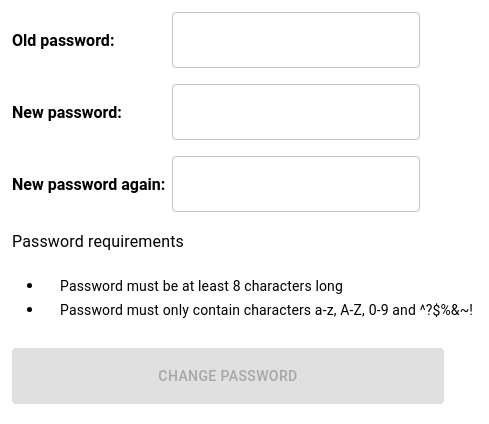
Scenario: ChangePasswordForm › enables submit when all requirements are met
Step 1. Type "oldPassword123" into the password field with test id "old-password-input" → {"x": 296, "y": 40}, box [172,12,420,68]
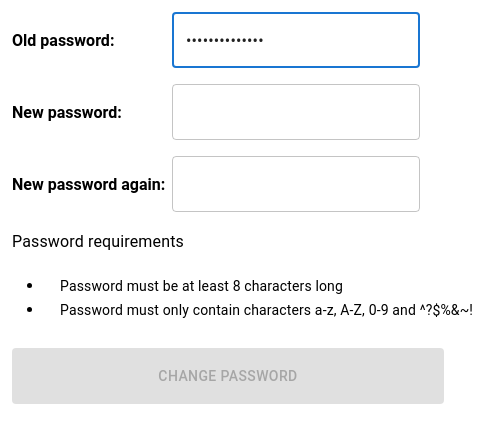
Step 2. Type "ValidPass1" into the password field with test id "new-password-input" → {"x": 296, "y": 112}, box [172,84,420,140]
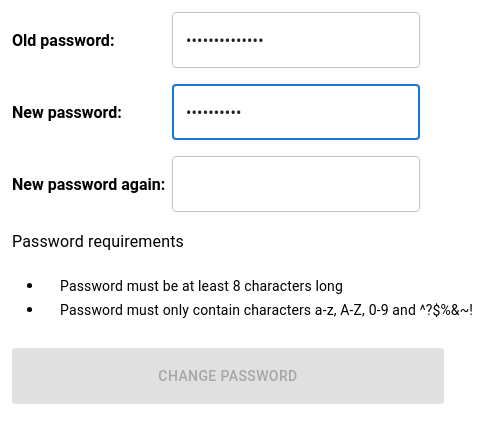
Step 3. Type "ValidPass1" into the password field with test id "verify-password-input" → {"x": 296, "y": 184}, box [172,156,420,212]
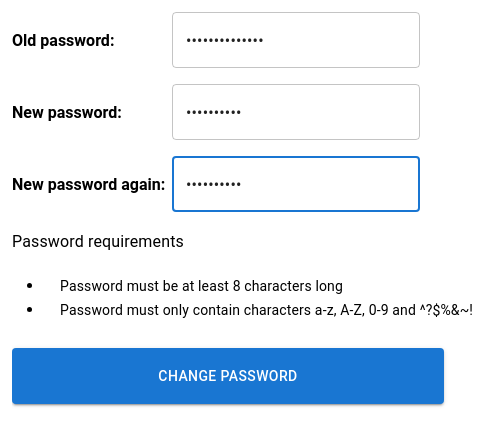
Expected: the button "Change password" is enabled, [12,348,444,404]
